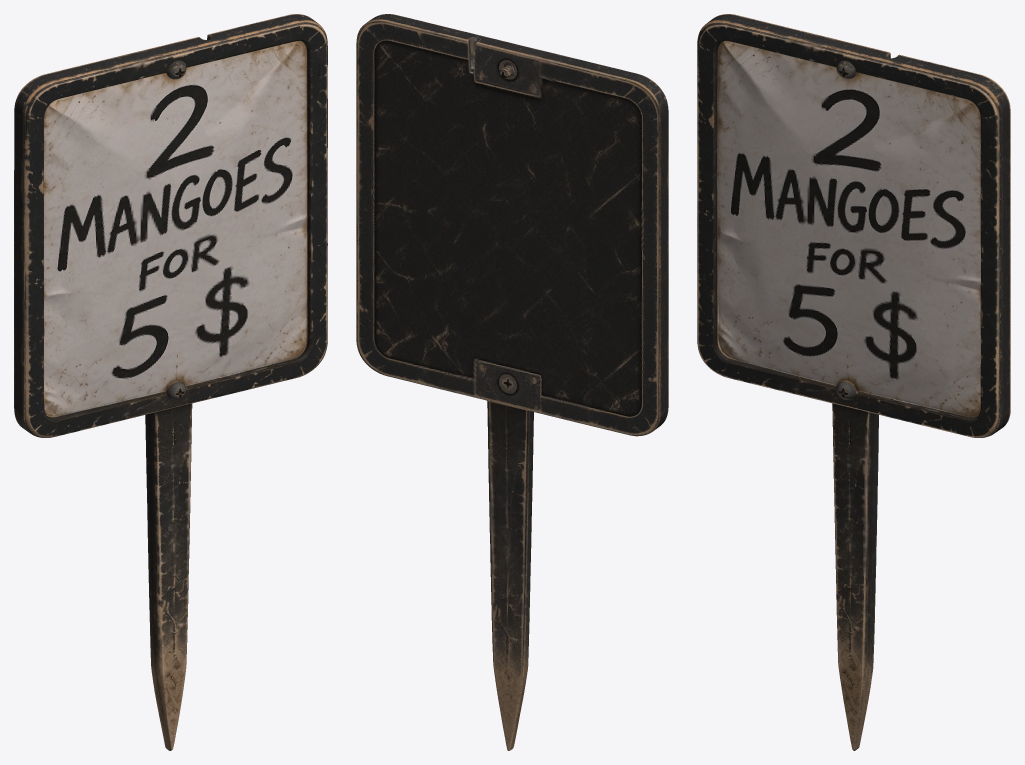
Rendered from MangoSign.glb.
3 views of the same model, side by side, from view 1: azimuth 30°, elevation 25°; view 2: azimuth 150°, elevation 25°; view 3: azimuth 330°, elevation 25° (orthographic).
Parts seen in each view (by area): view 1: MangoSign_Mesh; view 2: MangoSign_Mesh; view 3: MangoSign_Mesh.
Part boxes in pixels (x1,y1,x2,y2): MangoSign_Mesh: (14, 14, 327, 750); MangoSign_Mesh: (356, 14, 668, 750); MangoSign_Mesh: (697, 14, 1010, 750).
Bounding box in the file's own units: 0.8646 × 1.9 × 0.0964.
Materials: 1 (1 with a texture image).
